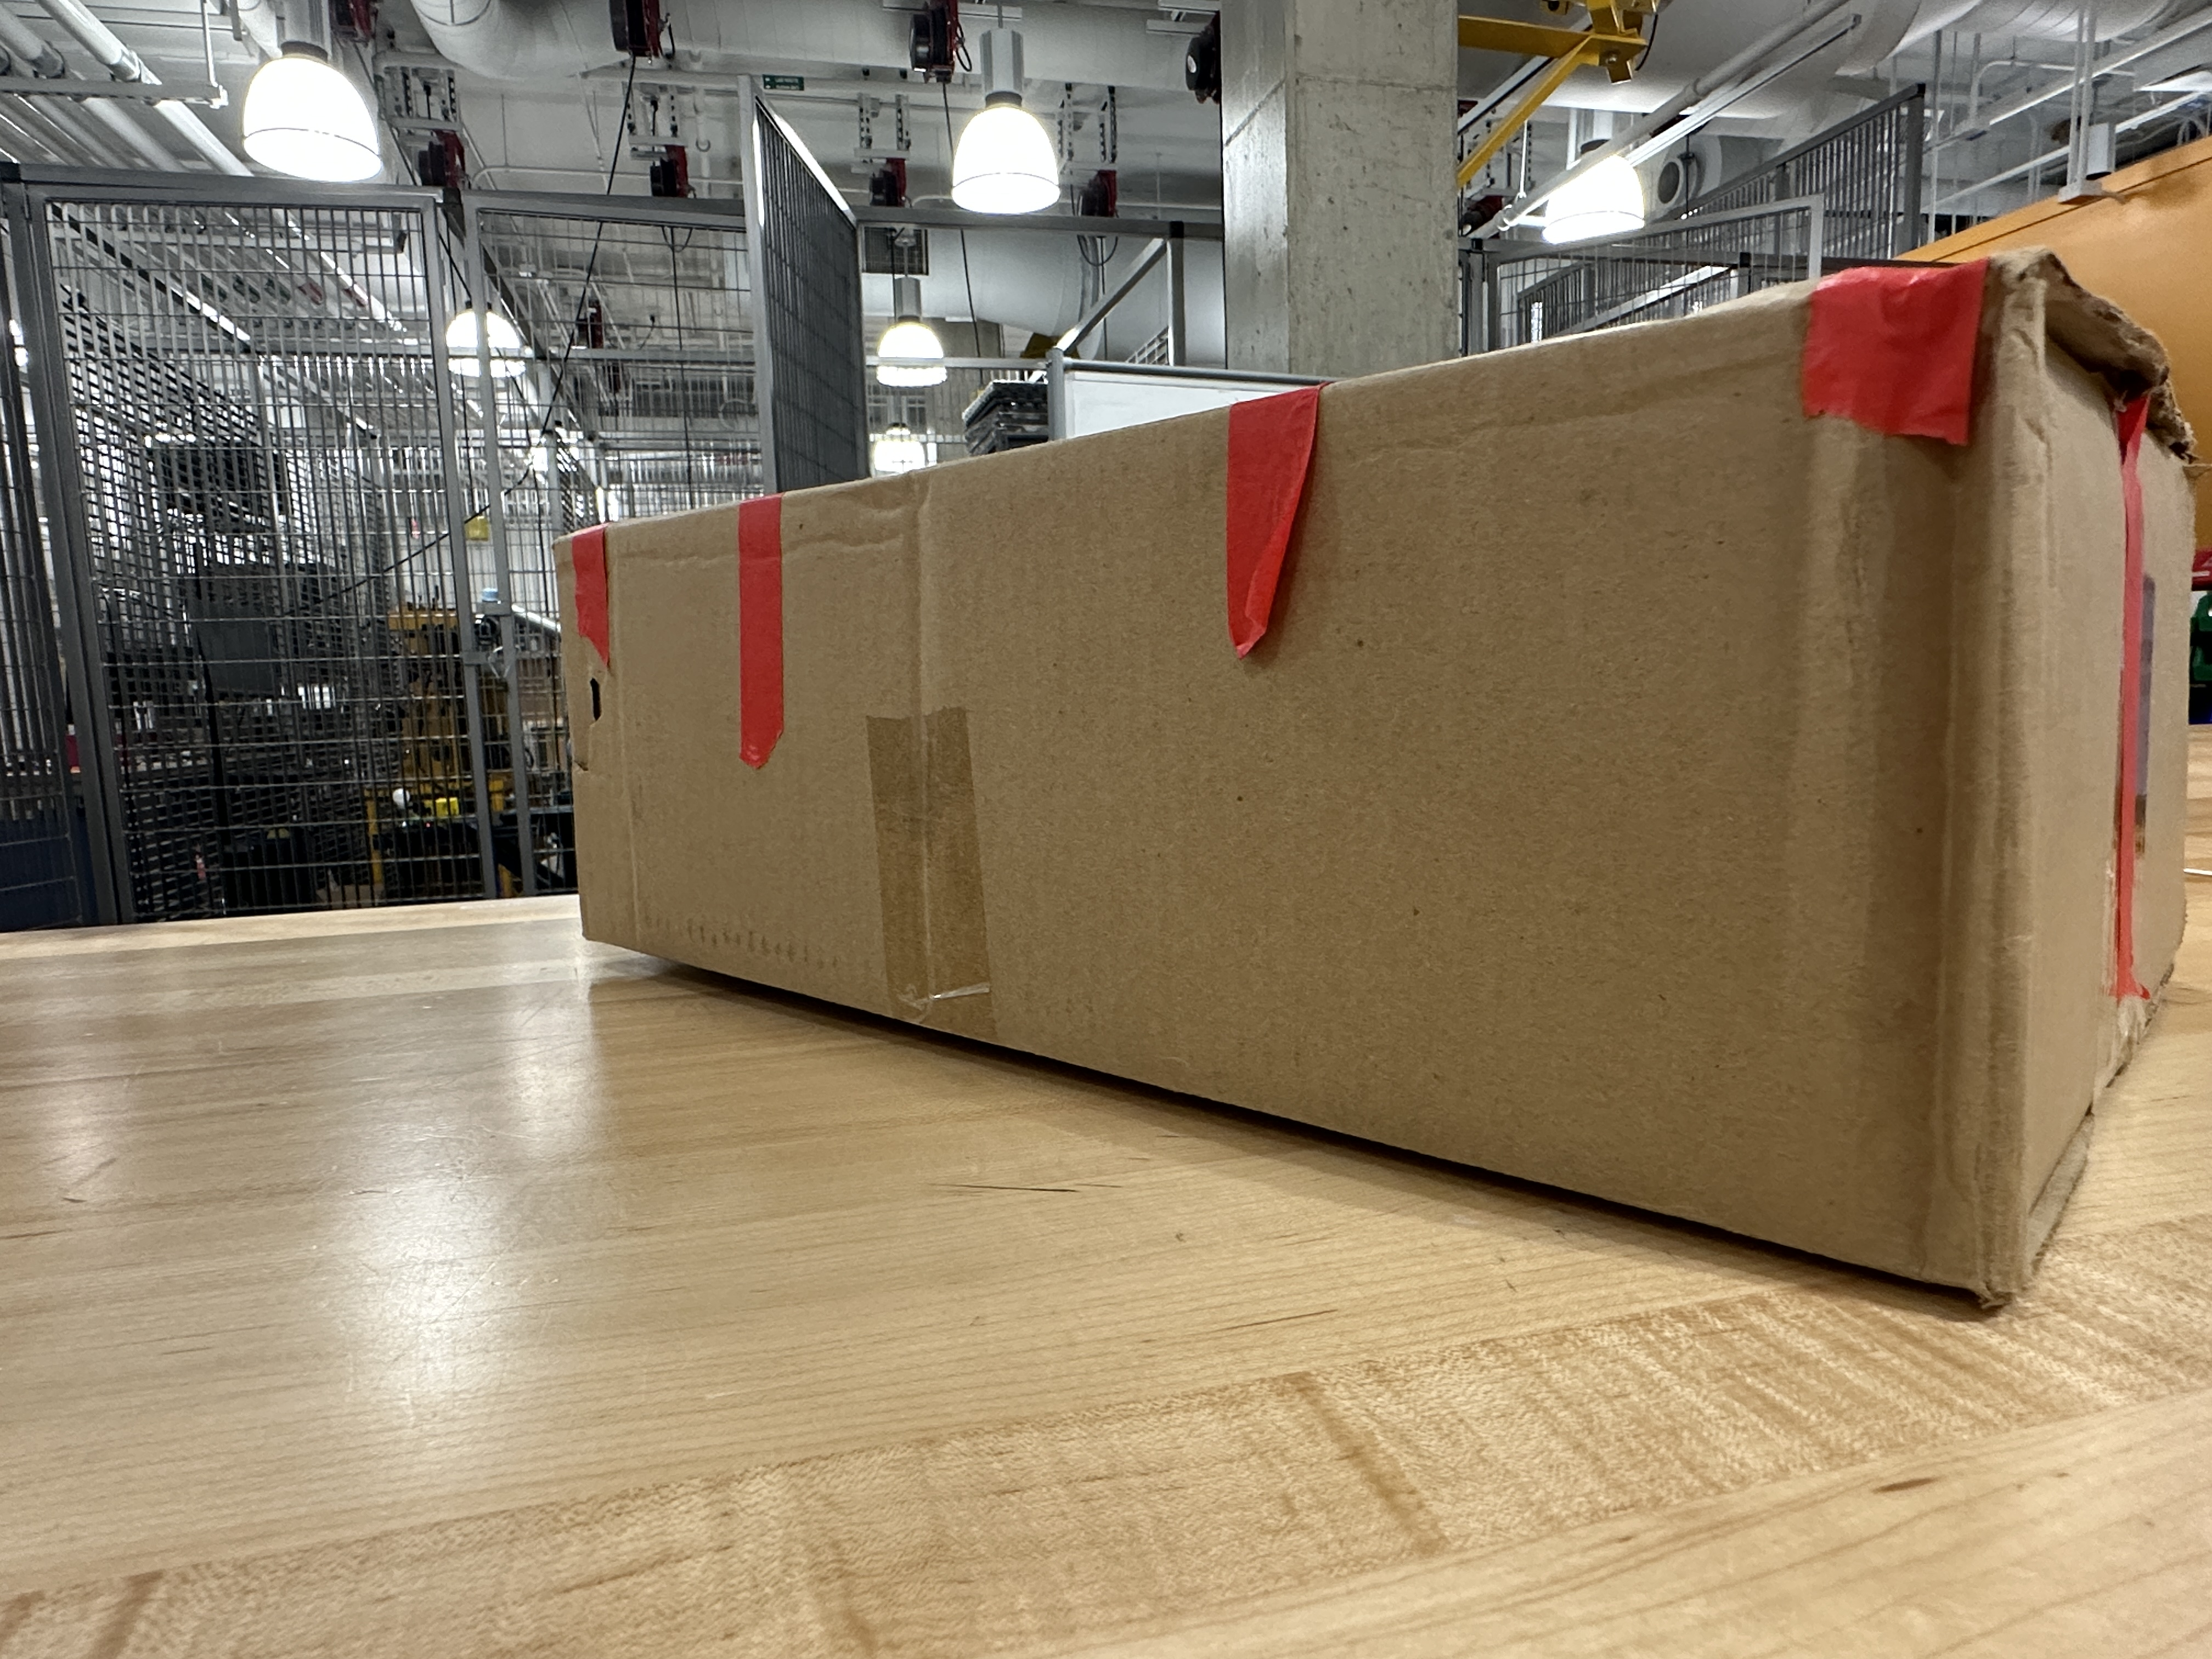Box_Obstacle: (542, 239, 2193, 1338)
